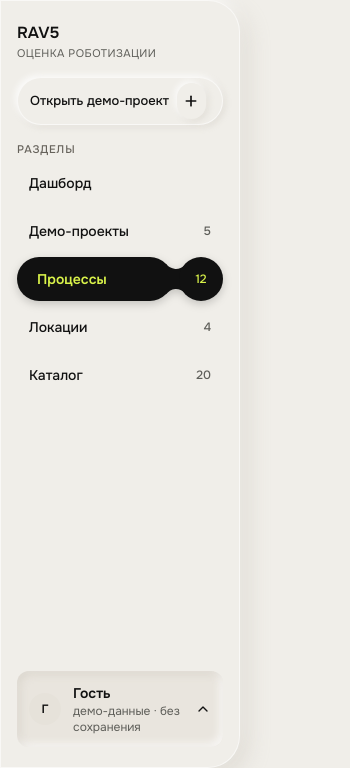
Test: Sidebar › gives the guest help and sign-in instead of the cabinet
Click the button with aria-label "Меню кабинета: Гость". click: {"x": 120, "y": 709}
box: [17,671,223,747]
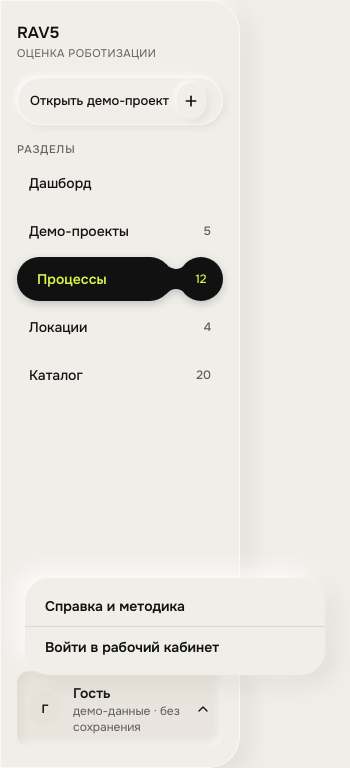
Now the link "Войти в рабочий кабинет" is shown, box [45,638,219,656]
